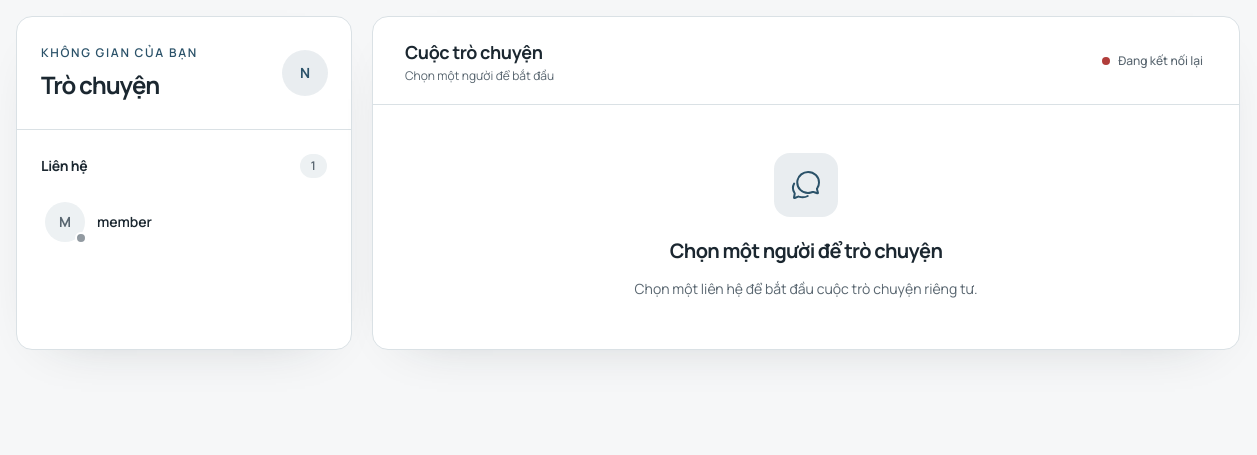
Scenario: restores a failed message to the original recipient
Later steps or results of the test are not shown.
Step 1. Click the button "M member" → (65, 222), box [33,190,335,254]
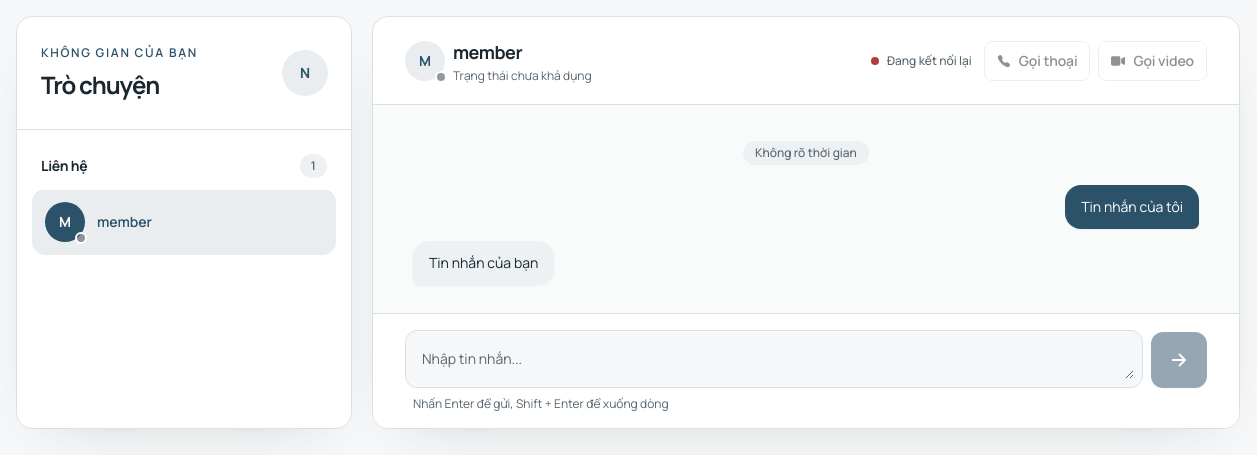
Check: the text "Tin nhắn của tôi" is shown, box [1065,185,1199,229]
